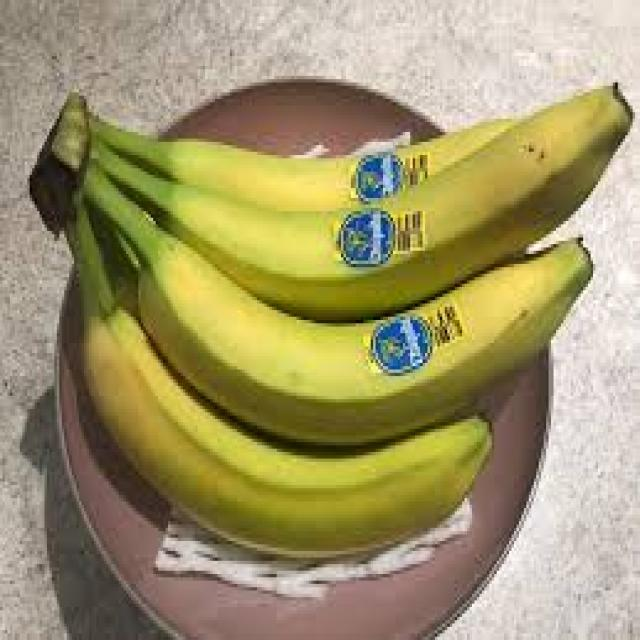Banana: (93, 87, 630, 320), (87, 309, 489, 557), (140, 240, 590, 445), (90, 121, 519, 211)
